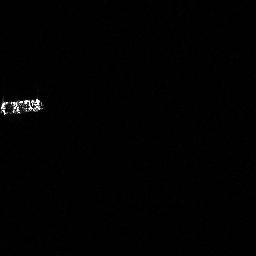ship: (1, 98, 43, 114)
